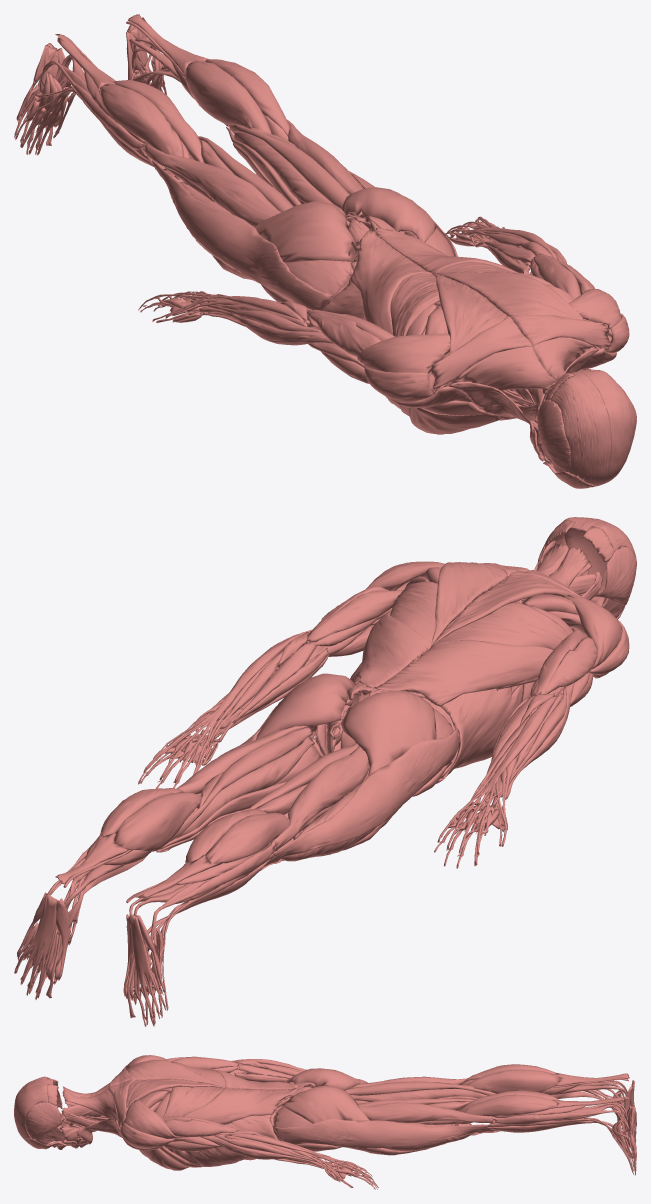
The model's file is overview__muscular.5301a24151.glb.
3 renders of one model, top to bottom at view 1: azimuth 30°, elevation 25°; view 2: azimuth 150°, elevation 25°; view 3: azimuth 270°, elevation 25°, orthographic. The views are drawn at different scales.
Visible parts, largest first — view 1: FMA46768, FMA58776, FMA13358, FMA22328, FMA45888, FMA33583, FMA45958, FMA45960, FMA33581, FMA33586, FMA34684, FMA22329 (+31 smaller); view 2: FMA13358, FMA58776, FMA13359, FMA22328, FMA13336, FMA22329, FMA45888, FMA45958, FMA33583, FMA33581, FMA22449, FMA45960 (+30 smaller); view 3: FMA58777, FMA13359, FMA22329, FMA45889, FMA13337, FMA45957, FMA45961, FMA33581, FMA46768, FMA22358, FMA34685, FMA13358 (+50 smaller).
Boxes of the visible parts, x1,y1,x2,y2 form: FMA46768: (550, 369, 636, 486); FMA58776: (152, 160, 332, 309); FMA13358: (350, 229, 439, 336); FMA22328: (254, 201, 357, 262); FMA45888: (142, 143, 281, 226); FMA33583: (433, 272, 584, 320); FMA45958: (185, 61, 271, 133); FMA45960: (100, 83, 183, 157); FMA33581: (432, 273, 506, 354); FMA33586: (455, 346, 558, 391); FMA34684: (357, 333, 450, 373); FMA22329: (341, 187, 436, 241); FMA13358: (374, 602, 568, 706); FMA58776: (263, 724, 458, 867); FMA13359: (351, 581, 461, 688); FMA22328: (340, 690, 436, 775); FMA13336: (436, 684, 530, 783); FMA22329: (256, 673, 354, 739); FMA45888: (272, 746, 368, 851); FMA45958: (114, 792, 201, 851); FMA33583: (431, 562, 506, 646); FMA33581: (431, 574, 577, 646); FMA22449: (176, 736, 314, 838); FMA45960: (205, 812, 289, 864); FMA58777: (274, 1119, 494, 1148); FMA13359: (163, 1086, 297, 1124); FMA22329: (281, 1085, 369, 1123); FMA45889: (359, 1102, 493, 1123); FMA13337: (173, 1115, 277, 1167); FMA45957: (466, 1069, 560, 1093); FMA45961: (464, 1094, 557, 1116); FMA33581: (126, 1060, 226, 1087); FMA46768: (14, 1076, 53, 1140); FMA22358: (344, 1081, 495, 1095); FMA34685: (124, 1100, 180, 1138); FMA13358: (171, 1061, 297, 1089).
Bounding box in the file's own units: 639 × 250 × 1647.
